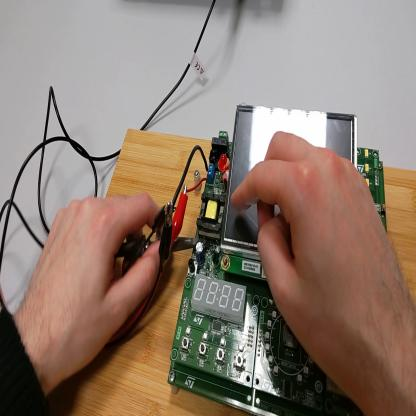hand: (232, 129, 412, 393), (19, 193, 164, 387)
low voltage board: (168, 105, 388, 416)
oscilloscope probe tip: (118, 231, 195, 265)
working area: (53, 128, 416, 416)
